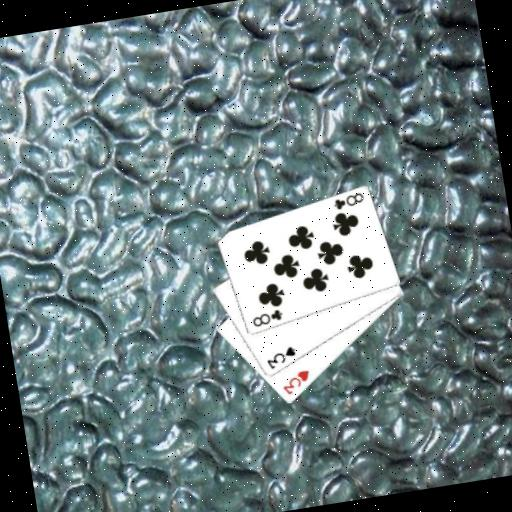3H: (277, 366, 313, 398)
3S: (262, 342, 299, 371)
8C: (248, 305, 285, 329), (329, 189, 366, 212)
